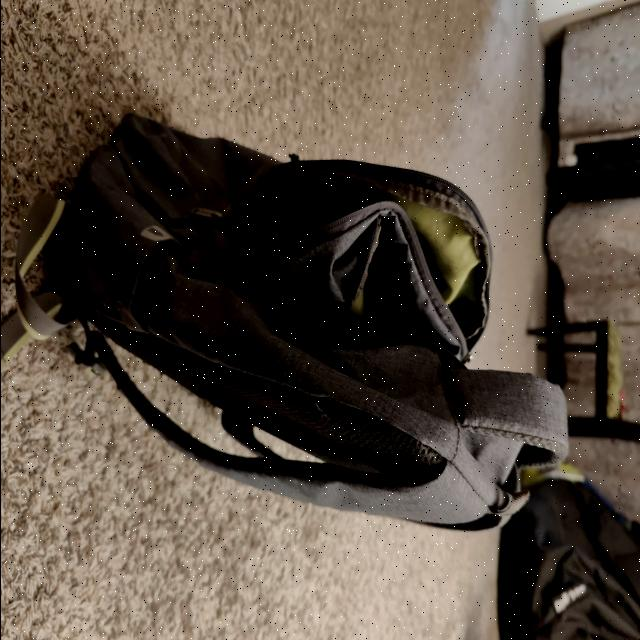bag: (43, 114, 565, 508)
